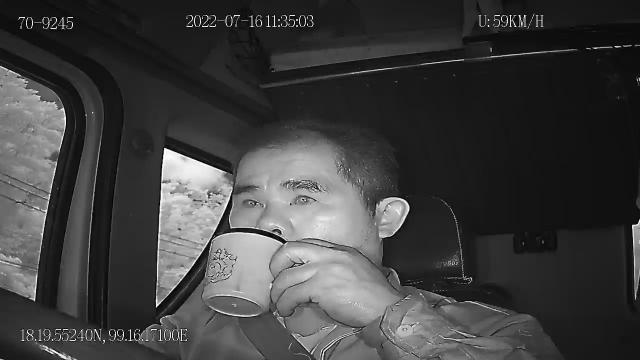SafeDriving: (280, 178, 326, 209), (234, 188, 269, 212)
Seatbelt: (238, 314, 314, 360)
